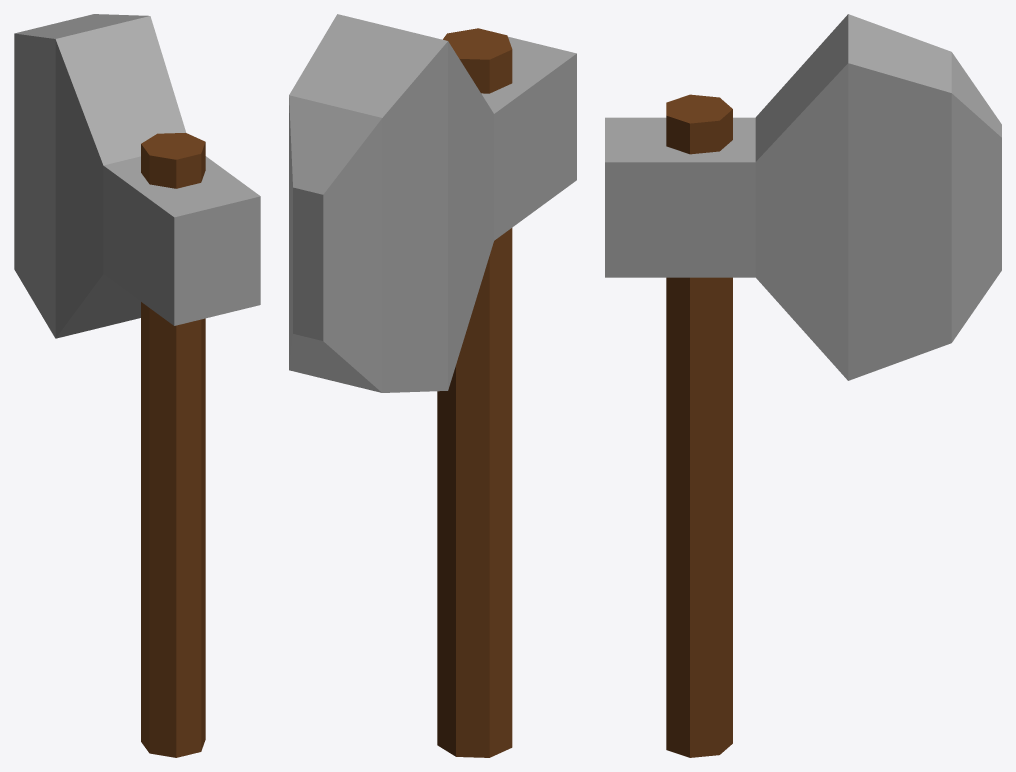
Rendered from stoneAxe.fbx.
3 renders of one model, left to right at view 1: azimuth 30°, elevation 25°; view 2: azimuth 150°, elevation 25°; view 3: azimuth 270°, elevation 25°, orthographic. The views are drawn at different scales.
Visible parts, largest first — view 1: StoneAxe; view 2: StoneAxe; view 3: StoneAxe.
Boxes of the visible parts, x1,y1,x2,y2 form: StoneAxe: [14, 14, 260, 757]; StoneAxe: [289, 14, 576, 757]; StoneAxe: [605, 14, 1001, 757].
Bounding box in the file's own units: 16.17 × 55.19 × 108.
